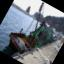fishing boat: (1, 7, 60, 64)
